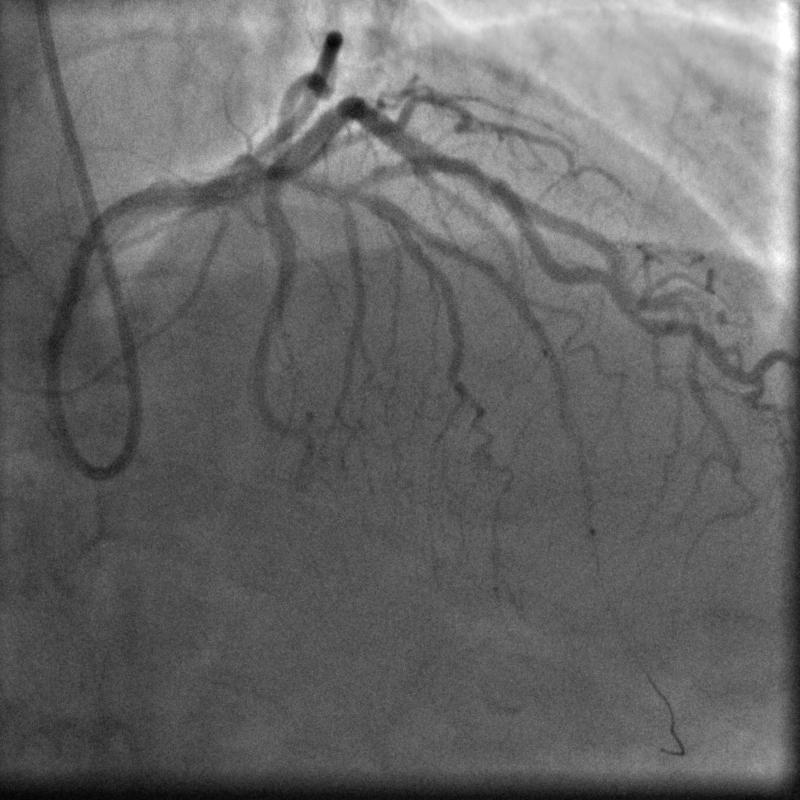Stenosis: (459, 156, 506, 202)
